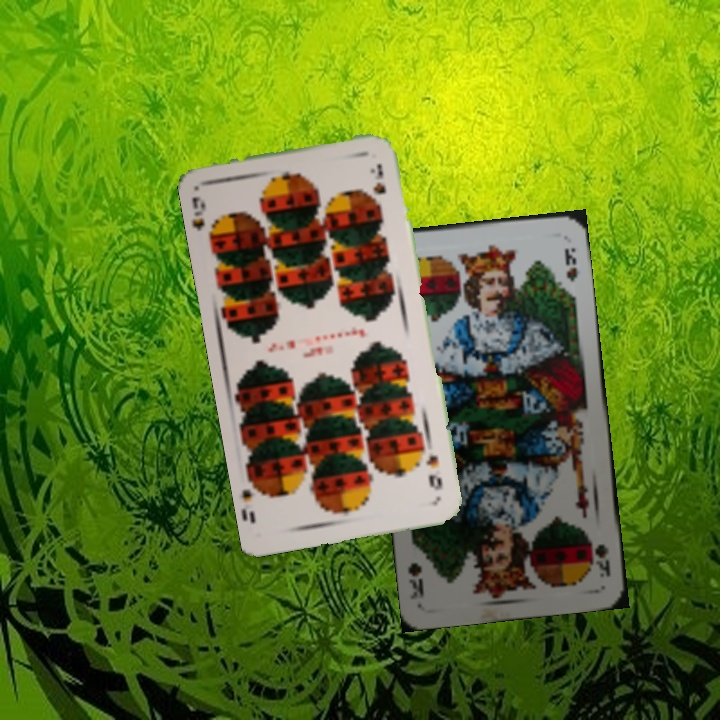S9: (188, 192, 220, 244), (422, 450, 445, 494)
SK: (586, 536, 613, 580)
